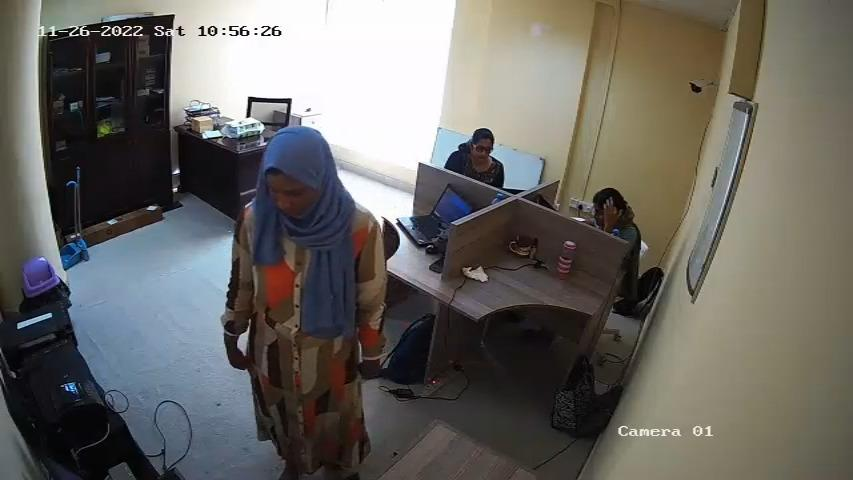no_apron: (251, 219, 355, 437)
